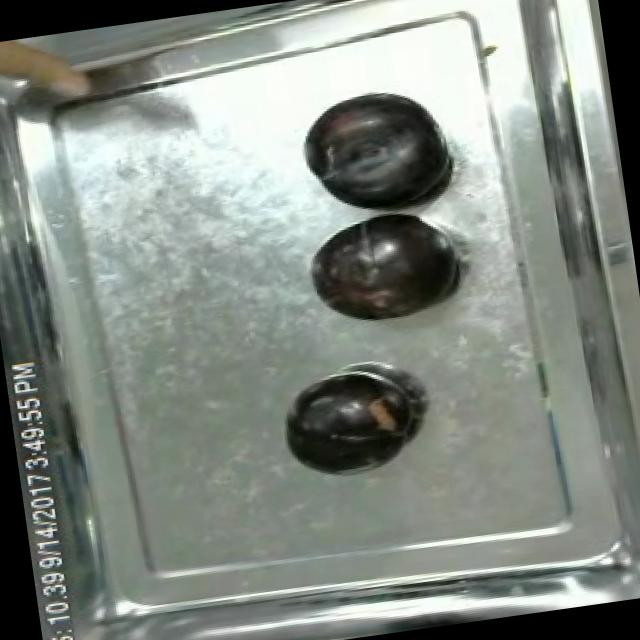Fruit: (297, 82, 462, 224), (298, 199, 464, 335), (274, 369, 416, 486)
